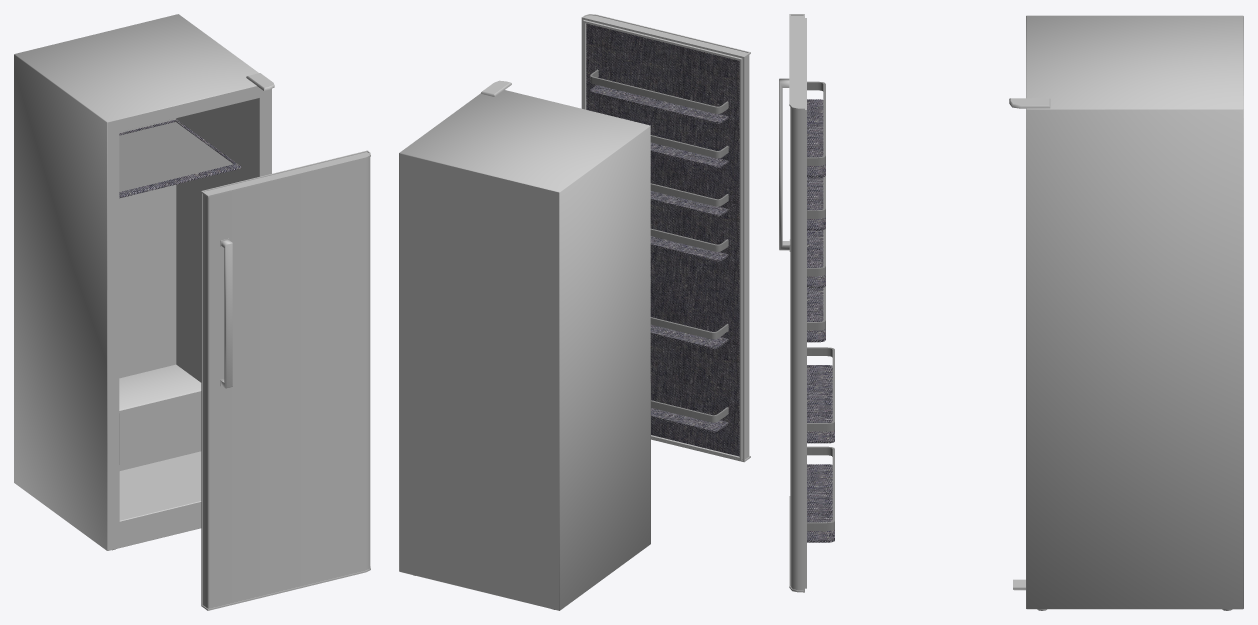
The model's file is PROPS_fridge_01.FBX.
3 views of the same model, side by side, from view 1: azimuth 30°, elevation 25°; view 2: azimuth 150°, elevation 25°; view 3: azimuth 270°, elevation 25° (orthographic). The views are drawn at different scales.
Visible parts, largest first — view 1: PROPS_fridge_01_doorExterior, PROPS_fridge_01_baseExterior, PROPS_fridge_01_baseInterior, PROPS_fridge_01_shelf; view 2: PROPS_fridge_01_baseExterior, PROPS_fridge_01_doorInterior, PROPS_fridge_01_doorExterior; view 3: PROPS_fridge_01_baseExterior, PROPS_fridge_01_doorExterior, PROPS_fridge_01_doorInterior.
Boxes of the visible parts, box(x1,y1,x2,y2) form: PROPS_fridge_01_doorExterior: box(201, 150, 370, 610); PROPS_fridge_01_baseExterior: box(14, 14, 274, 550); PROPS_fridge_01_baseInterior: box(119, 98, 259, 520); PROPS_fridge_01_shelf: box(119, 119, 241, 198); PROPS_fridge_01_baseExterior: box(399, 80, 650, 610); PROPS_fridge_01_doorInterior: box(586, 23, 739, 456); PROPS_fridge_01_doorExterior: box(581, 14, 750, 462); PROPS_fridge_01_baseExterior: box(1009, 15, 1243, 610); PROPS_fridge_01_doorExterior: box(779, 14, 806, 592); PROPS_fridge_01_doorInterior: box(807, 81, 834, 542).
Bounding box in the file's own units: 96.14 × 241 × 199.
